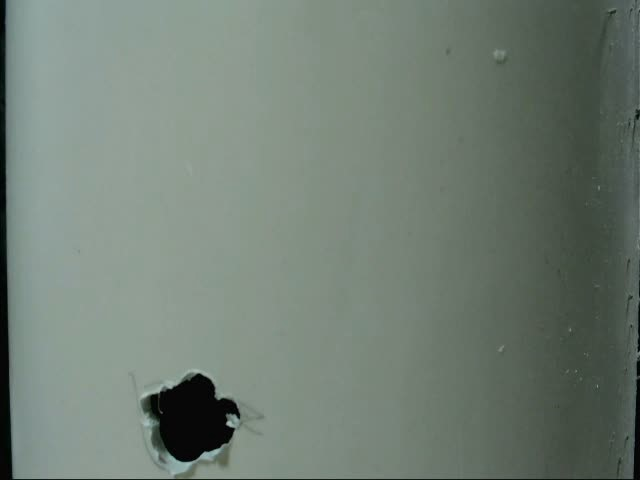kongdong: (133, 360, 251, 476)
